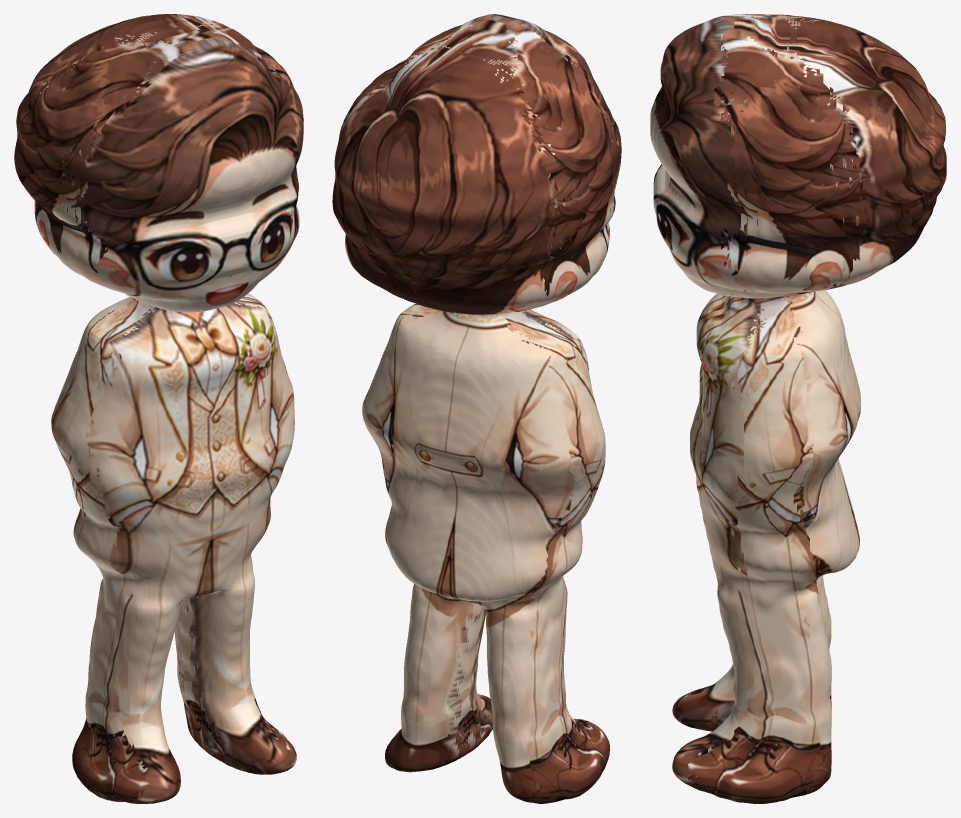
The model's file is groom.glb.
3 views of the same model, side by side, from view 1: azimuth 30°, elevation 25°; view 2: azimuth 150°, elevation 25°; view 3: azimuth 270°, elevation 25° (orthographic).
Visible parts, largest first — view 1: PengantinPria3D; view 2: PengantinPria3D; view 3: PengantinPria3D.
Part boxes in pixels (bbox=[...]): PengantinPria3D: bbox=[14, 14, 303, 803]; PengantinPria3D: bbox=[332, 14, 621, 803]; PengantinPria3D: bbox=[650, 14, 946, 803].
Size of the model in its own units: 0.5296 by 1.6 by 0.5804.
1 material, 1 textured.
